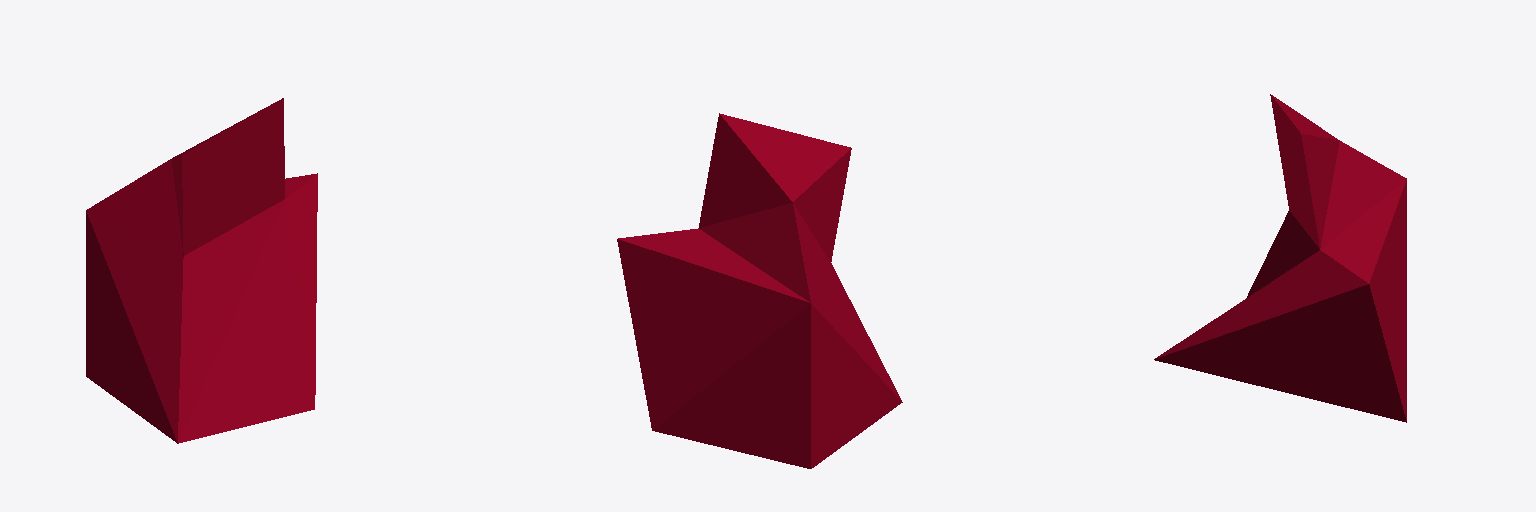
File: cosa.obj
3 views of the same model, side by side, from view 1: azimuth 30°, elevation 25°; view 2: azimuth 150°, elevation 25°; view 3: azimuth 270°, elevation 25° (orthographic).
Parts seen in each view (by area): view 1: Cube; view 2: Cube; view 3: Cube.
Boxes of the visible parts, x1=… form: Cube: x1=86, y1=98, x2=317, y2=443; Cube: x1=617, y1=113, x2=902, y2=468; Cube: x1=1154, y1=94, x2=1406, y2=422.
Size of the model in its own units: 2.68 by 3.39 by 2.77.